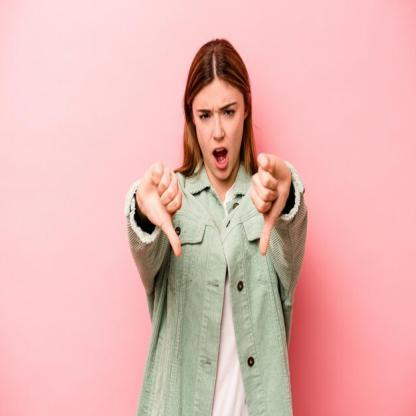thumb_down: (136, 157, 184, 260), (250, 150, 291, 258)
